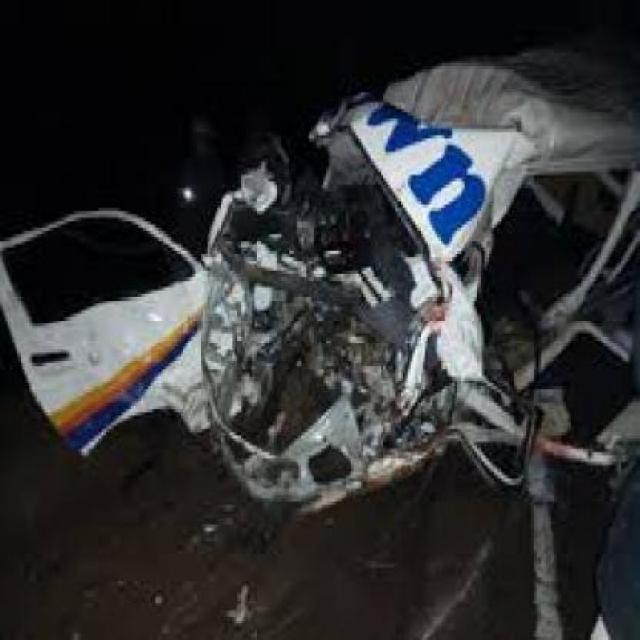accident: (29, 68, 573, 569)
